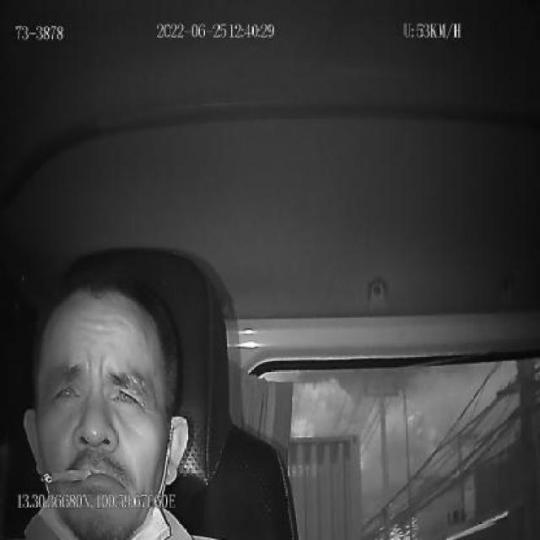smoking: (41, 464, 92, 485)
